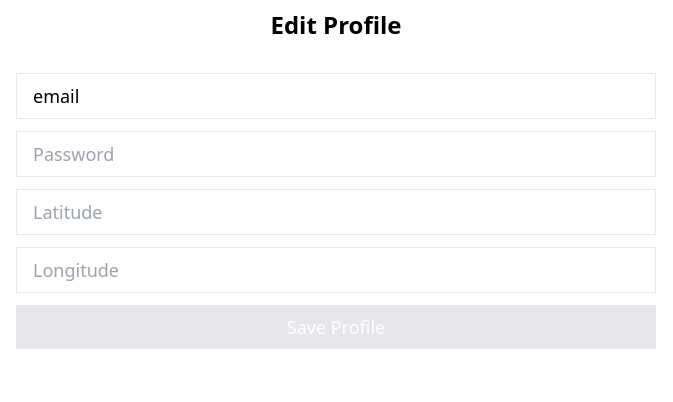
Test case: <EditProfile /> › should display email validation errors
The width and height of the screenshot is (673, 402).
Clear the field with placeholder "Email": (336, 96) x1=16 y1=73 x2=656 y2=119
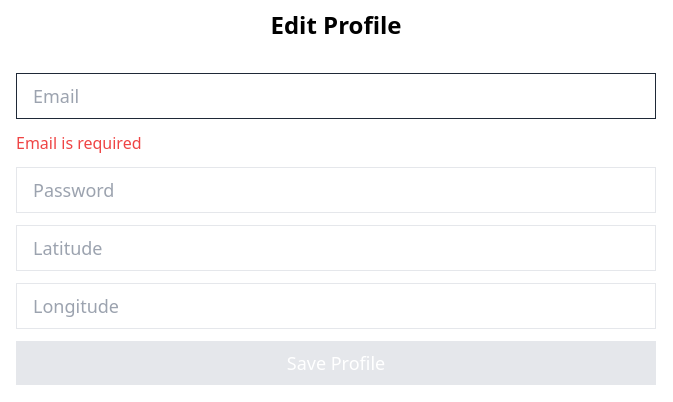
Now the message reads "Email is required", box x1=16 y1=132 x2=142 y2=154
In the field with placeholder "Email": (336, 96) x1=16 y1=73 x2=656 y2=119, type "test"
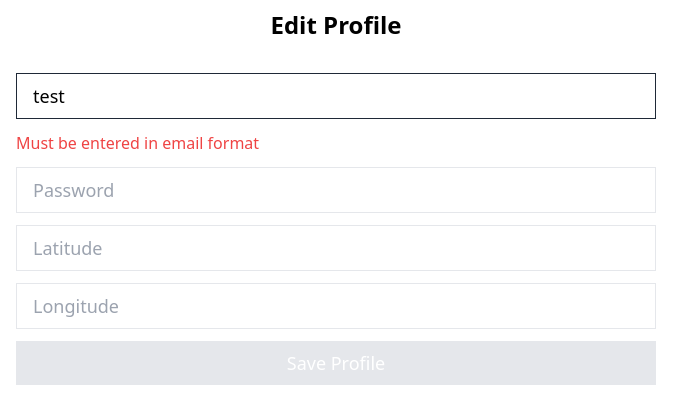
Now the message reads "Must be entered in email format", box x1=16 y1=132 x2=259 y2=154
